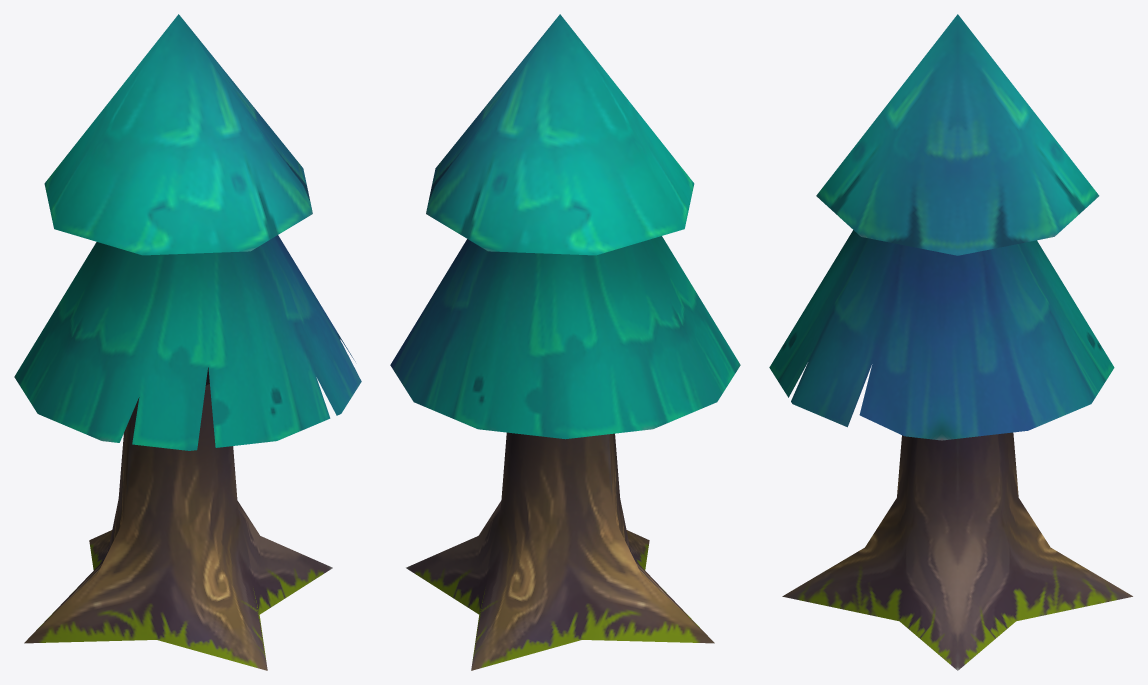
The model's file is scenes_construction_tree01d.FBX.
The picture shows the model from 3 angles, left to right: view 1: azimuth 30°, elevation 25°; view 2: azimuth 150°, elevation 25°; view 3: azimuth 270°, elevation 25°; orthographic projection.
Visible parts, largest first — view 1: scenes_construction_tree01a; view 2: scenes_construction_tree01a; view 3: scenes_construction_tree01a.
Part boxes in pixels (<box>): scenes_construction_tree01a: <box>14,14,361,670</box>; scenes_construction_tree01a: <box>390,14,740,670</box>; scenes_construction_tree01a: <box>769,14,1132,670</box>.
Bounding box in the file's own units: 472 × 862 × 489.
